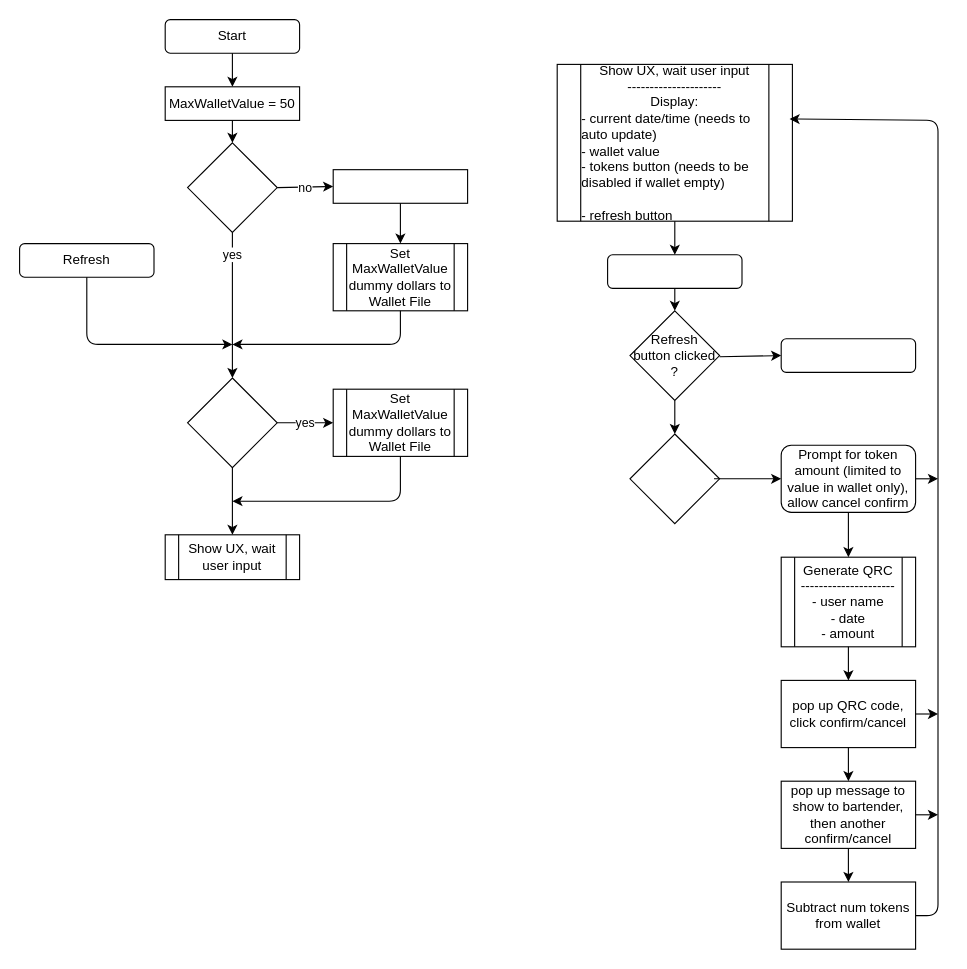
Image size: 967x969. Some labels were removed from this diagram. The box of each missing label's shape, as (x1, y1, x2, y2) in pixels:
Create Wallet File: (332, 169, 468, 203)
Goto Refresh: (780, 338, 916, 372)
Is this the first of the month?: (186, 377, 277, 468)
Tokens button clicked ?: (629, 433, 720, 524)
Wait user input: (606, 254, 742, 288)
Wallet file exist ?: (186, 142, 277, 232)
